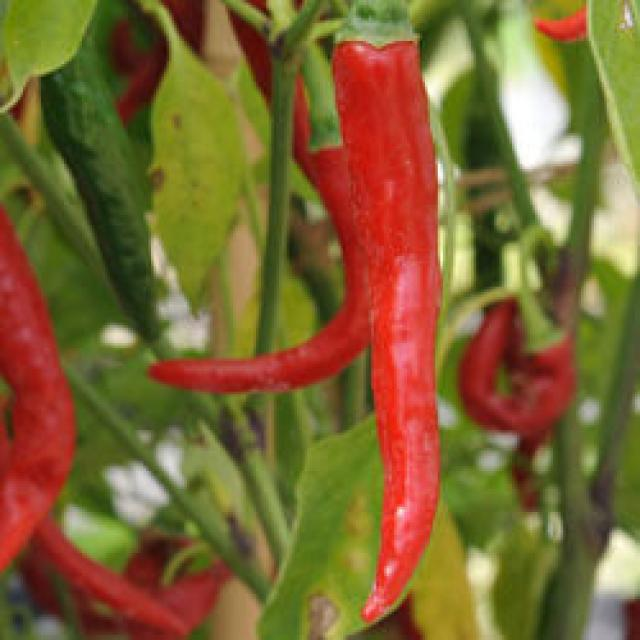red chili: (323, 27, 453, 628)
